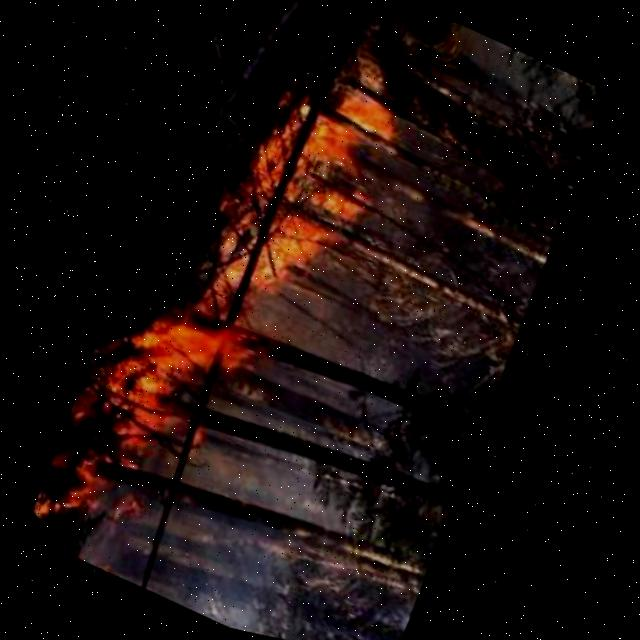fire: (203, 33, 415, 319), (78, 300, 245, 488)
